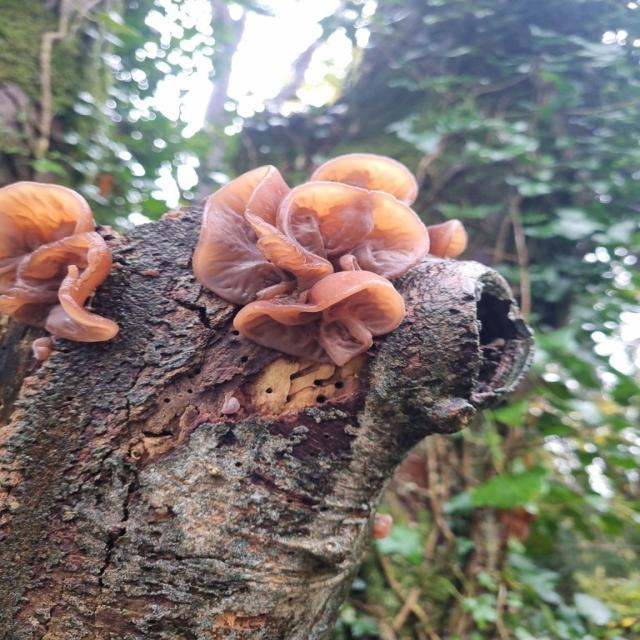Matang: (191, 158, 338, 300), (230, 269, 413, 368), (281, 178, 436, 284), (0, 229, 119, 350), (0, 176, 106, 270), (311, 150, 424, 212), (427, 214, 478, 258)
